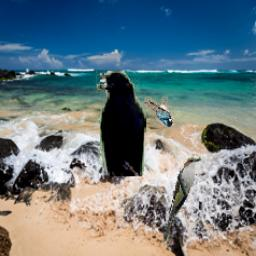Crow: (95, 71, 146, 176)
Cuckoo: (162, 158, 200, 243)
Swallow: (143, 98, 174, 128)
